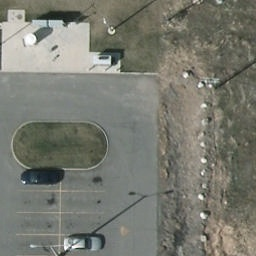car: (63, 235, 107, 250), (20, 170, 60, 185)
